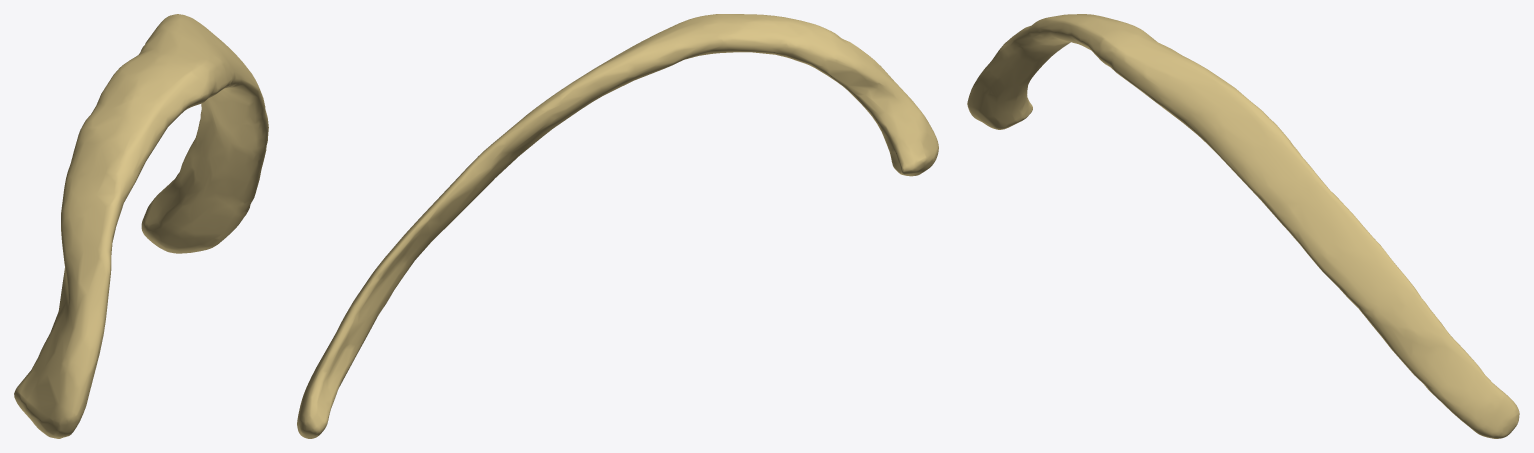
3 renders of one model, left to right at view 1: azimuth 30°, elevation 25°; view 2: azimuth 150°, elevation 25°; view 3: azimuth 270°, elevation 25°, orthographic. The views are drawn at different scales.
Parts seen in each view (by area): view 1: 左侧第十一肋; view 2: 左侧第十一肋; view 3: 左侧第十一肋.
Boxes of the visible parts, <box> form: 左侧第十一肋: <box>14,14,268,438</box>; 左侧第十一肋: <box>297,14,938,438</box>; 左侧第十一肋: <box>967,14,1519,438</box>.
Size of the model in its own units: 0.1471 by 0.1196 by 0.1945.
